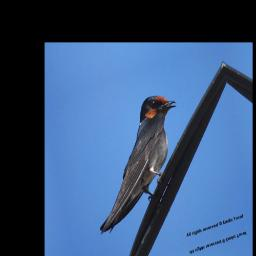Swallow: (79, 88, 194, 234)
